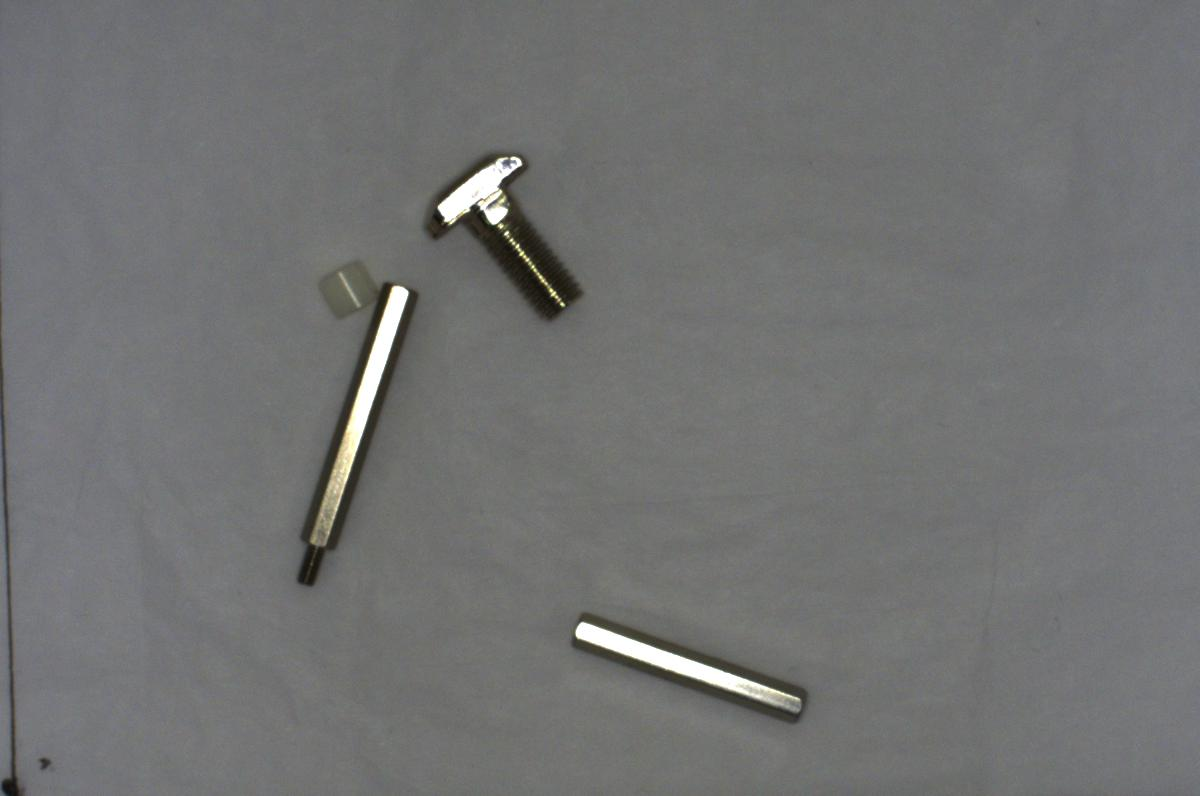Double hexagonal column: (558, 615, 811, 722)
Hexagonal steel column: (275, 278, 414, 588)
Plastic cushion pillar: (311, 253, 380, 318)
T-shaped screw: (426, 141, 585, 318)
